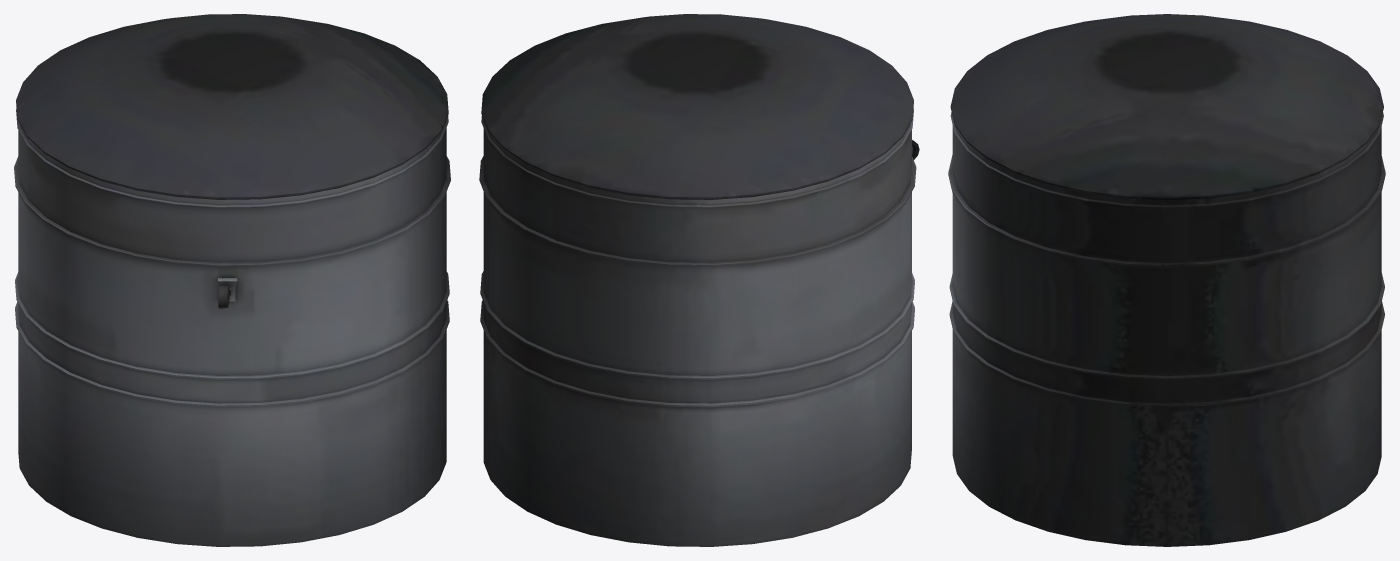
3 views of the same model, side by side, from view 1: azimuth 30°, elevation 25°; view 2: azimuth 150°, elevation 25°; view 3: azimuth 270°, elevation 25° (orthographic).
Visible parts, largest first — view 1: body0_model0_lod0_mesh0; view 2: body0_model0_lod0_mesh0; view 3: body0_model0_lod0_mesh0.
Part boxes in pixels (<box>): body0_model0_lod0_mesh0: <box>14,14,450,546</box>; body0_model0_lod0_mesh0: <box>479,14,919,546</box>; body0_model0_lod0_mesh0: <box>948,14,1385,546</box>.
Size of the model in its own units: 225 by 223 by 225.
Materials: 1 (1 with a texture image).
